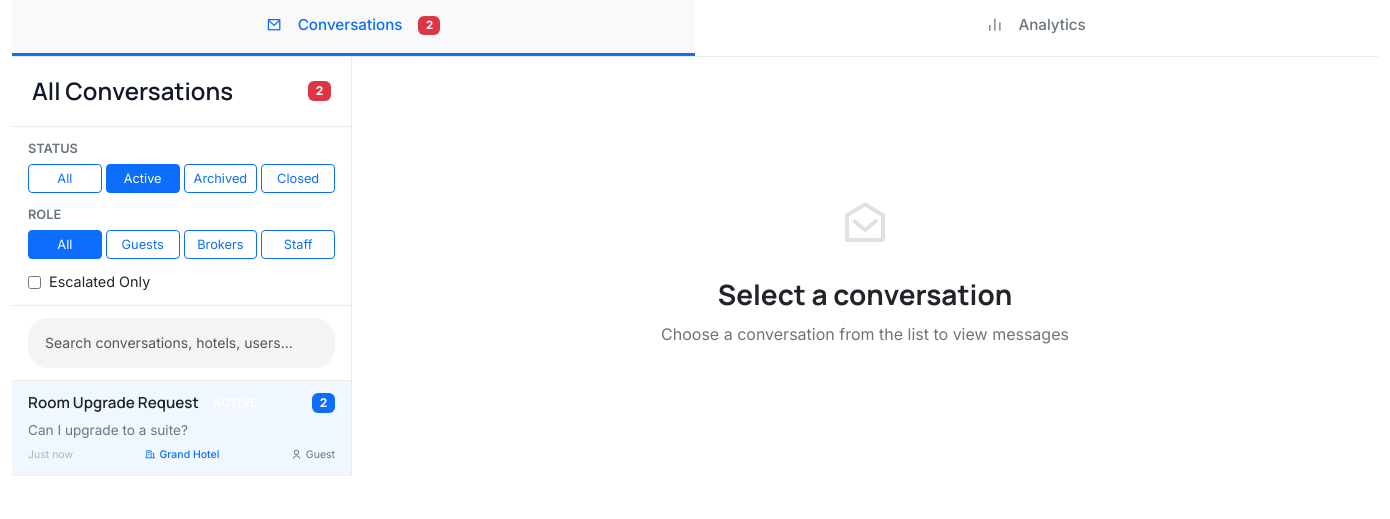
Scenario: AdminMessagesPage › filters conversations by status
The image size is (1390, 519).
Check: the heading "Room Upgrade Request" is shown, box [28,394,199,412]
Click the button "Closed": (298, 178) [261,164,335,193]
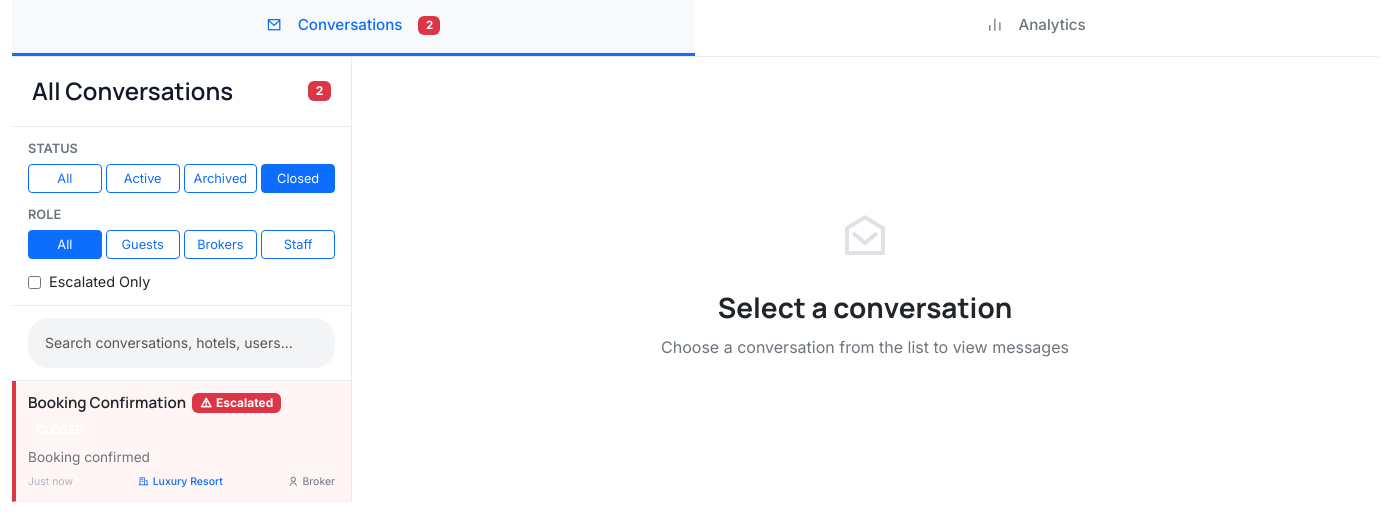
Check: the heading "Booking Confirmation" is shown, box [28,394,186,412]
Check: the heading "Room Upgrade Request" is gone
